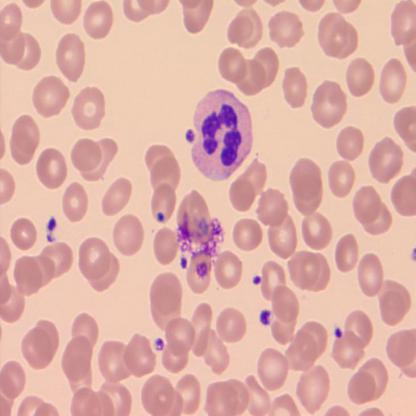Segmented neutrophil: (189, 88, 255, 182)
